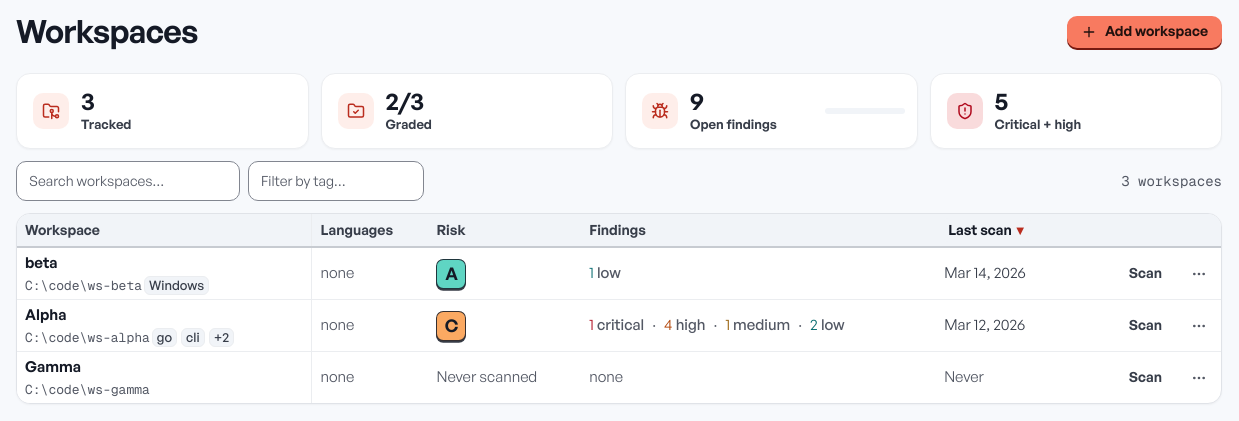
Test case: WorkspacesPage sortable columns › sorts by name ascending on first click, flips to descending on the second, and moves the arrow
The image size is (1239, 421).
Click the button with class "th-sort" showing "Workspace" at [64, 230], box [25,218,102,242]
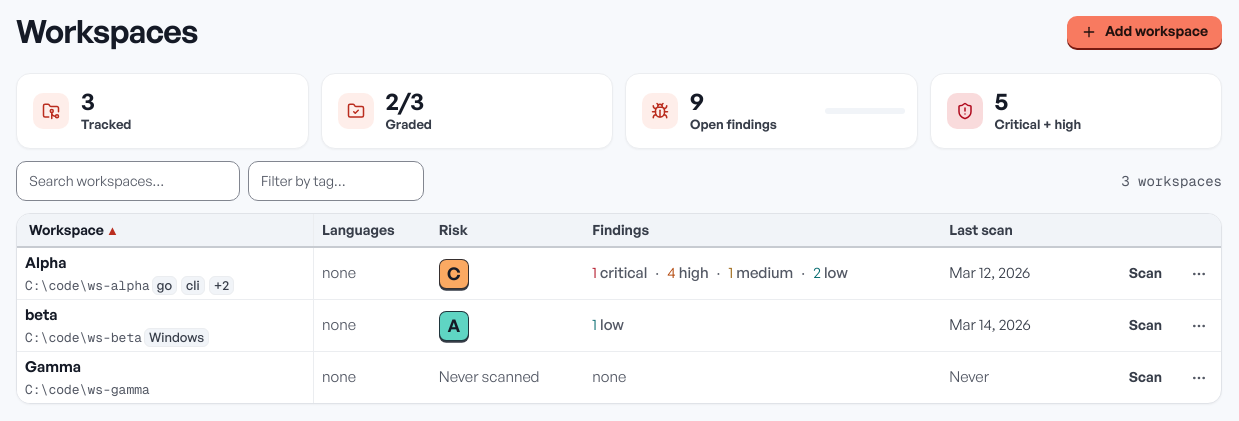
Check: the column heading "Workspace ▲" is shown, box [17,214,314,247]
Check: the text with class "sort-arrow" reads "▲", box [106,222,119,238]
Click the button with class "th-sort" showing "Workspace ▲" at [74, 230], box [25,218,123,242]
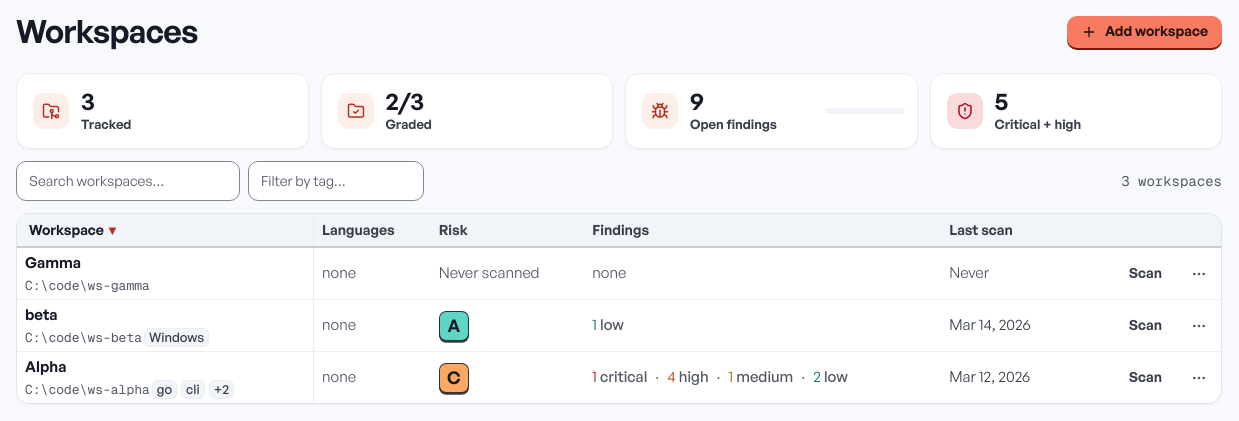
Check: the text with class "sort-arrow" reads "▼", box [106,222,119,238]
